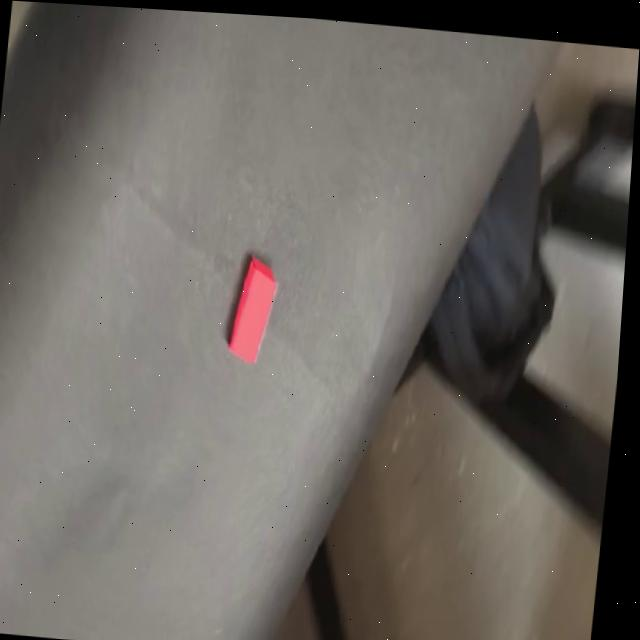red block: (225, 252, 281, 364)
